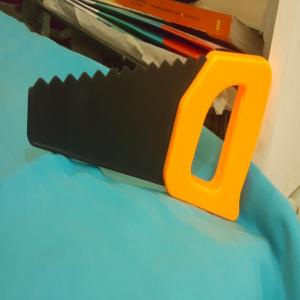serrote: (26, 48, 274, 222)
